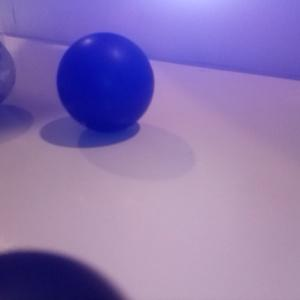alive_ball: (1, 41, 17, 109)
dead_ball: (56, 32, 156, 134), (1, 249, 130, 300)
